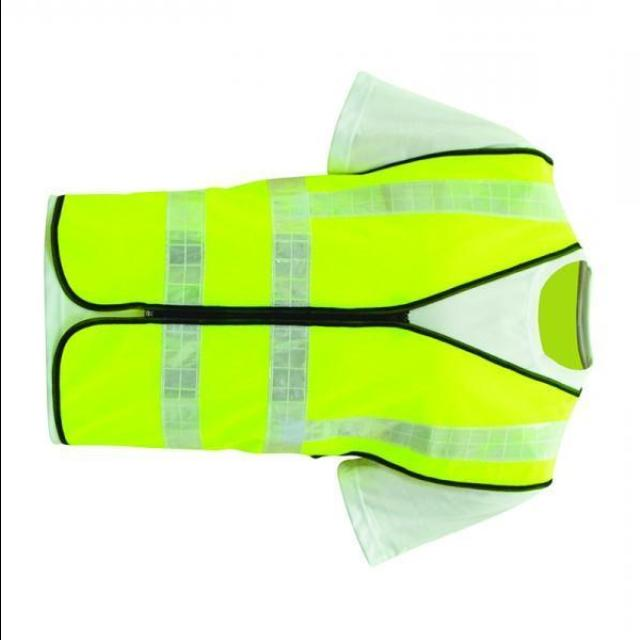helmet: (49, 143, 608, 493)
